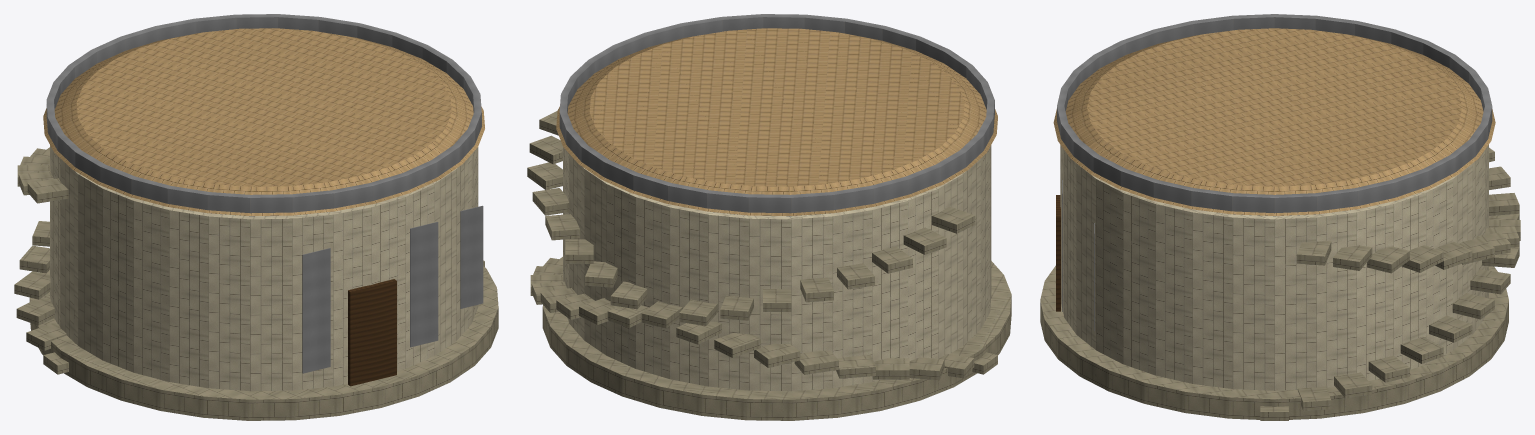
File: granary-israelite-35993e59.glb
The picture shows the model from 3 angles, left to right: view 1: azimuth 30°, elevation 25°; view 2: azimuth 150°, elevation 25°; view 3: azimuth 270°, elevation 25°; orthographic projection.
Parts seen in each view (by area): view 1: LOD0; view 2: LOD0; view 3: LOD0.
Part boxes in pixels (<box>): LOD0: <box>14,14,498,420</box>; LOD0: <box>527,14,1011,420</box>; LOD0: <box>1040,14,1520,420</box>.
Size of what is drawn, in the model's own units: 1.47 by 0.71 by 1.44.
2 materials, 2 textured.
